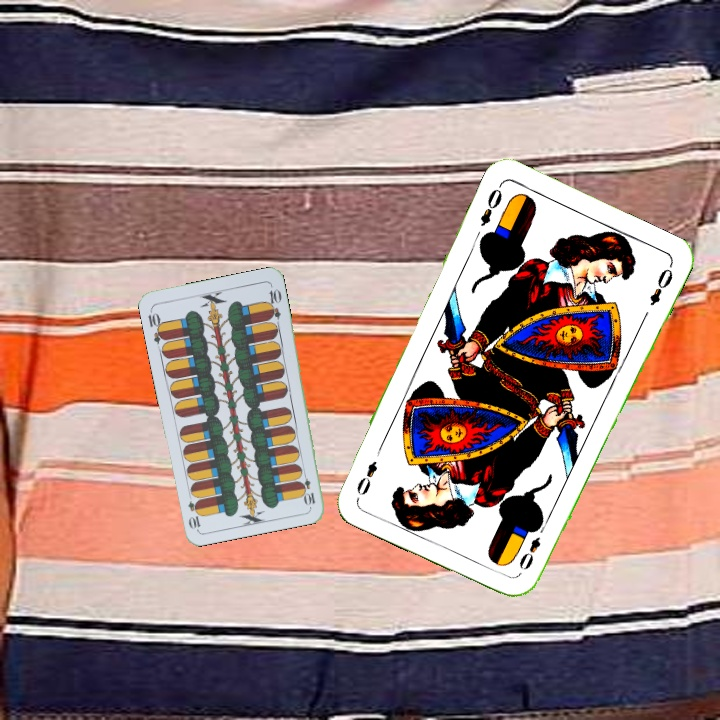E10: (144, 306, 168, 346), (298, 467, 318, 508)
EO: (515, 521, 549, 573), (476, 180, 505, 229)
